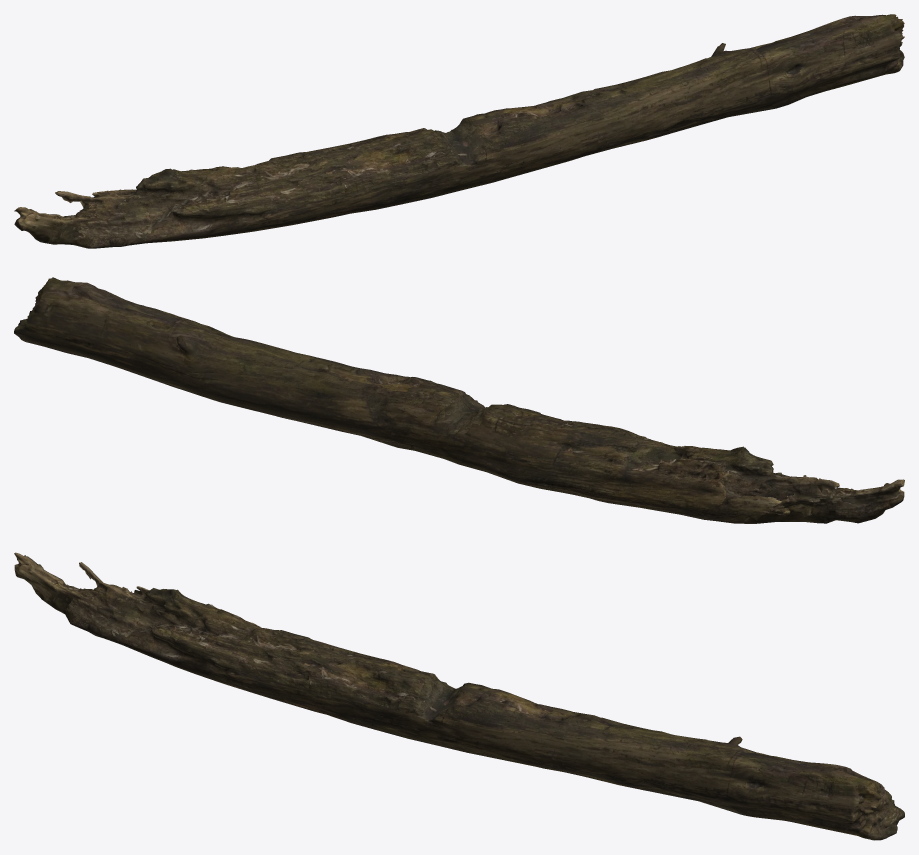
The model's file is dead_tree_trunk.glb.
The picture shows the model from 3 angles, top to bottom: view 1: azimuth 30°, elevation 25°; view 2: azimuth 150°, elevation 25°; view 3: azimuth 330°, elevation 25°; orthographic projection.
Visible parts, largest first — view 1: dead_tree_trunk; view 2: dead_tree_trunk; view 3: dead_tree_trunk.
Boxes of the visible parts, x1,y1,x2,y2 form: dead_tree_trunk: (14,14,904,248); dead_tree_trunk: (14,277,904,523); dead_tree_trunk: (14,552,904,840).
Size of the model in its own units: 3.05 by 0.2898 by 0.2775.
1 material, 1 textured.
